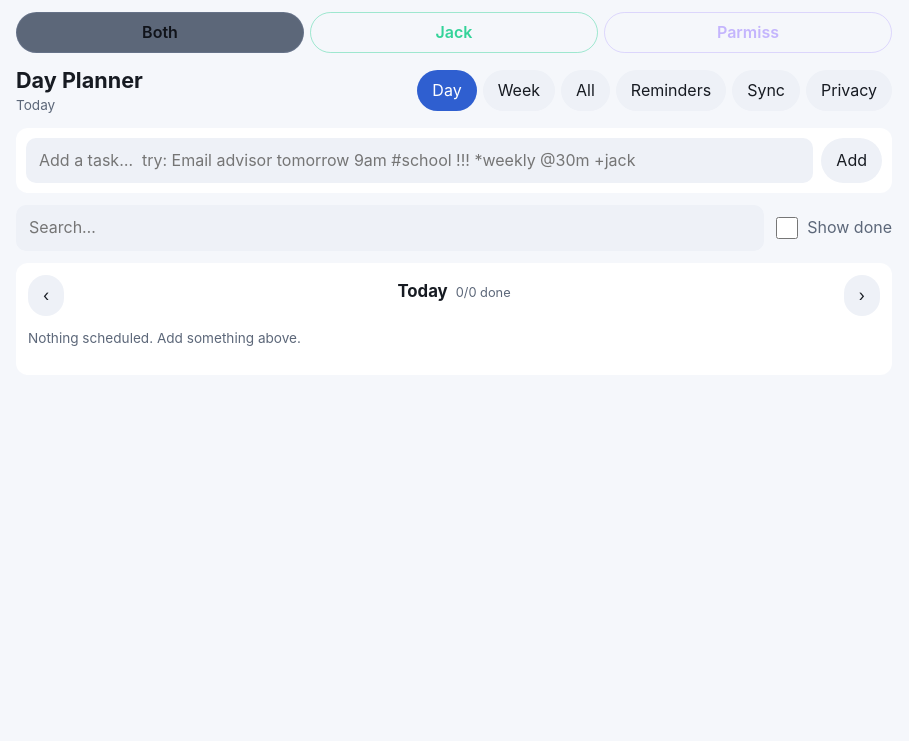
Test: App › deletes a task
In the field labelled "Add a task": (420,161) left=26, top=138, right=813, bottom=183, type "Mistake"
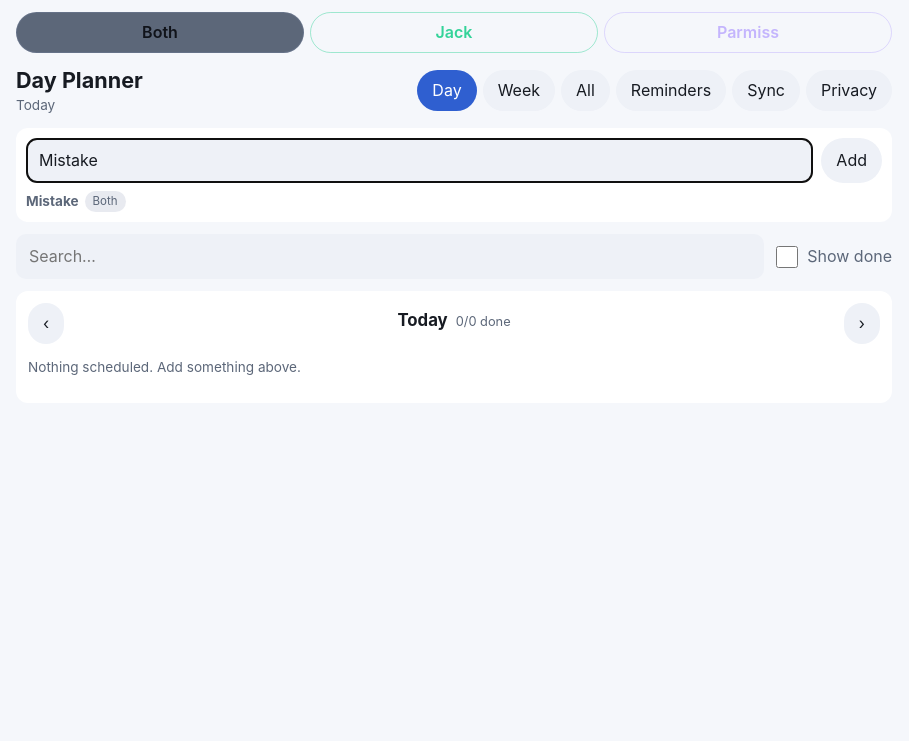
Click the button "Add": (852,161) left=821, top=138, right=882, bottom=183
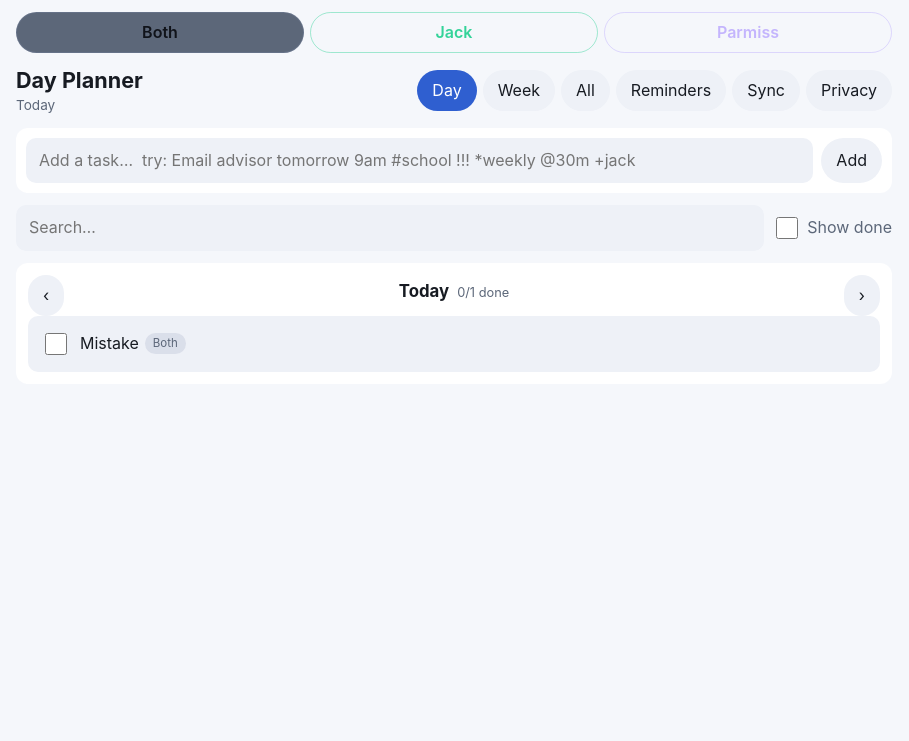
Click the button "Mistake Both": (109,343) left=80, top=324, right=870, bottom=364
(page scrolled)
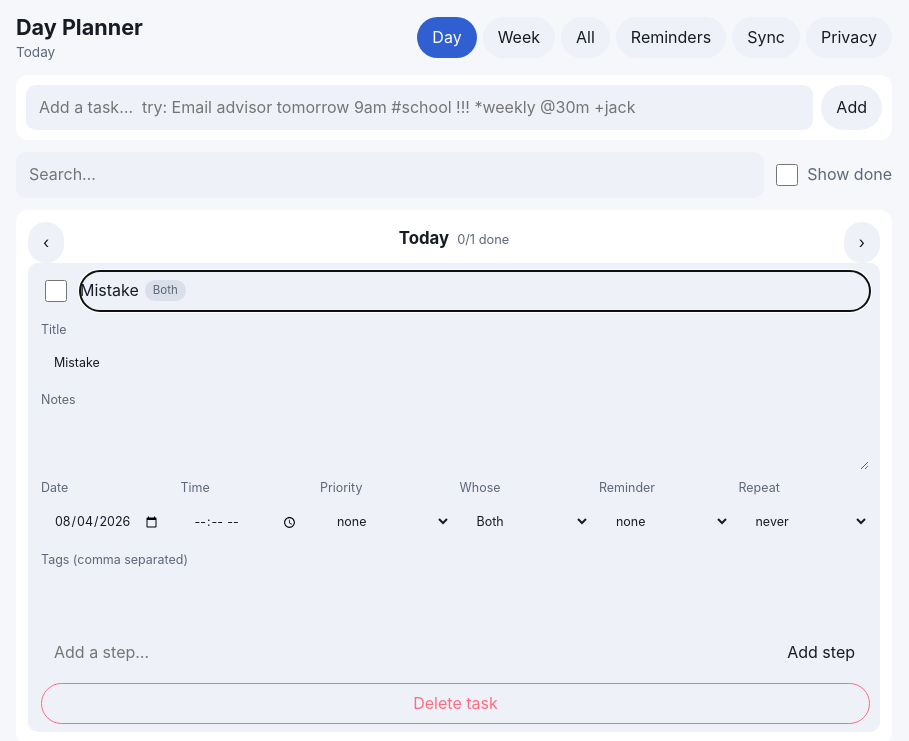
Click the button "Delete task": (456,703) left=41, top=683, right=870, bottom=724
(page scrolled)
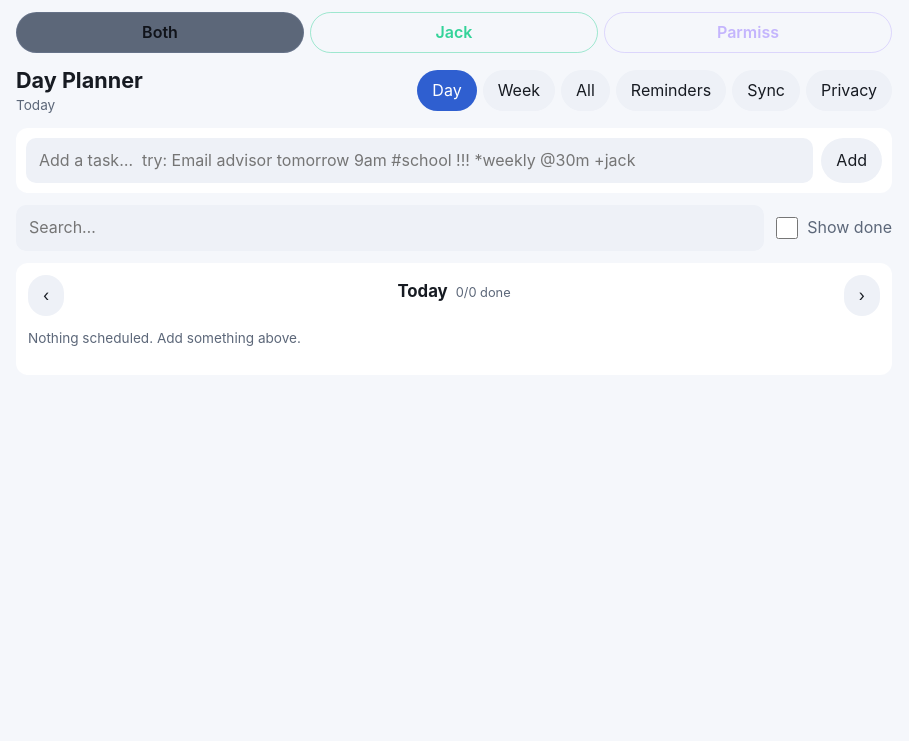
Now the button "Mistake" is gone
